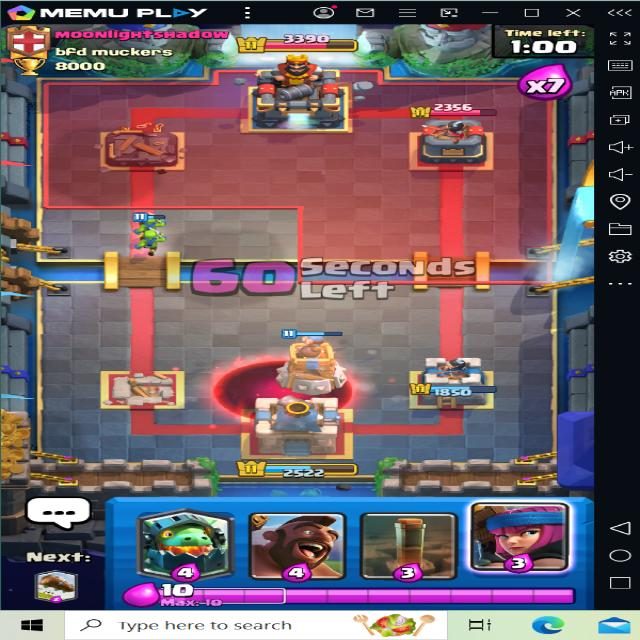void: (210, 352, 354, 422)
